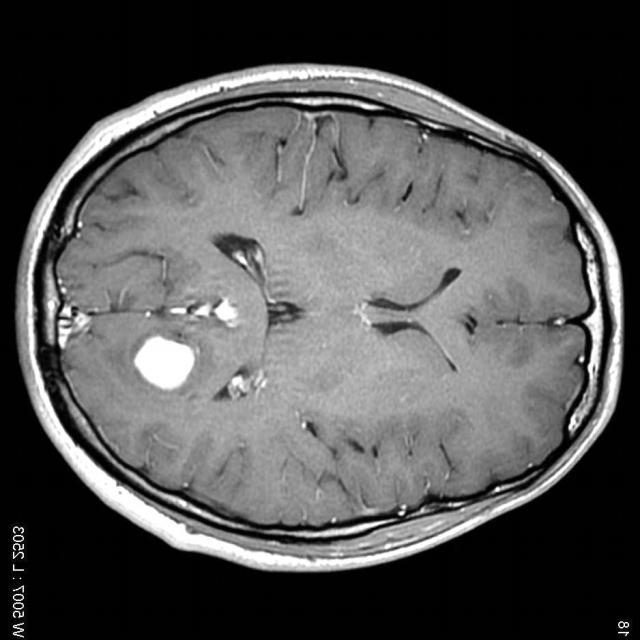tumor: (132, 334, 197, 393)
